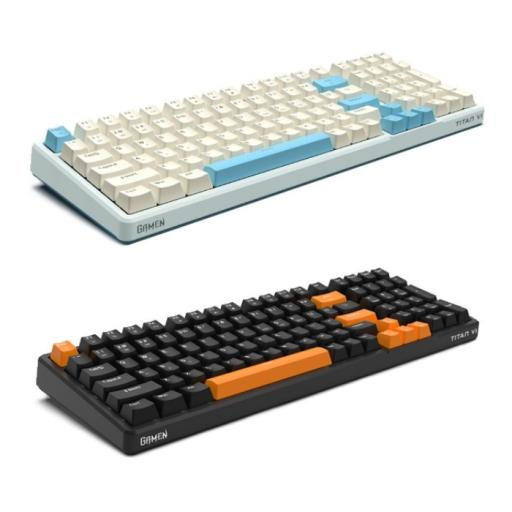keyboard: (37, 52, 484, 247), (33, 267, 479, 456)
